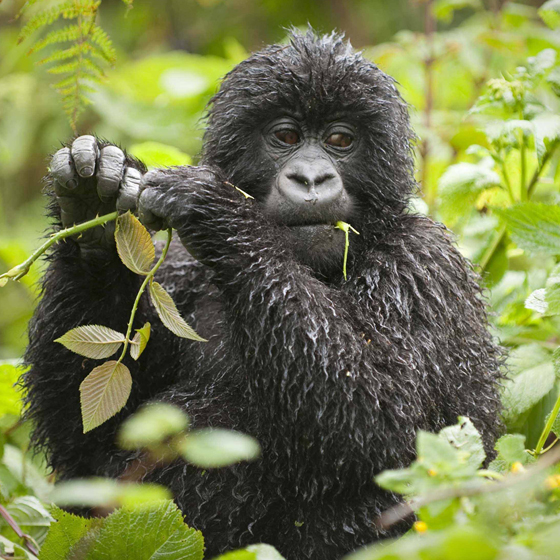Goriila: (17, 28, 553, 560)
